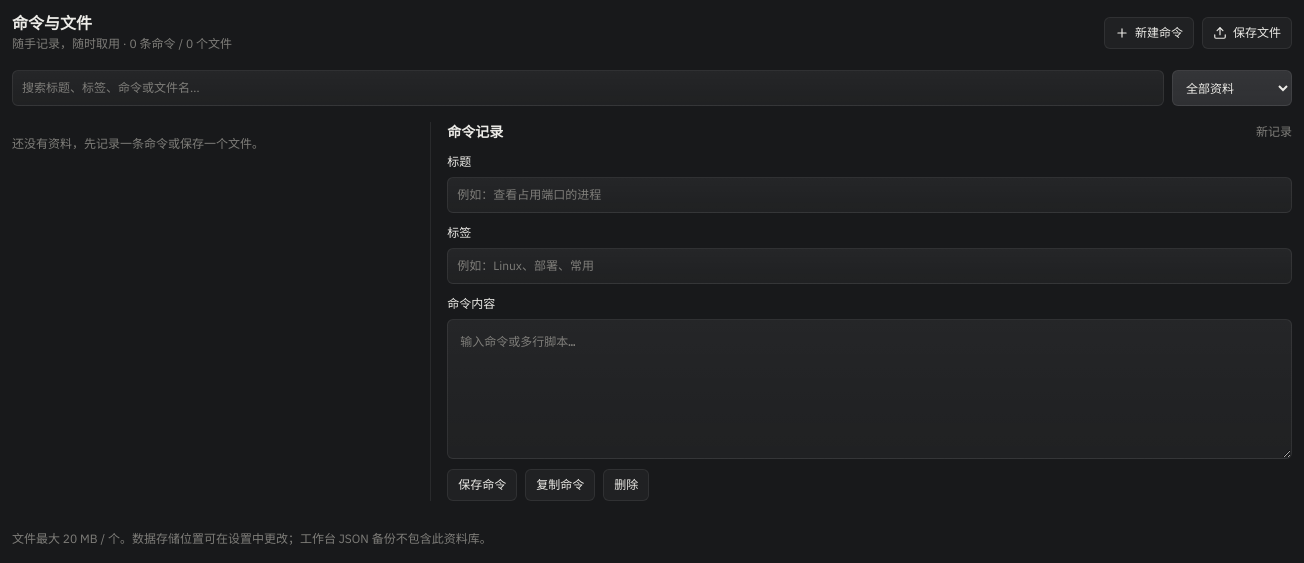
保存失败保留草稿并提示错误
expect the button "新建命令" is enabled: met, box [1104,17,1194,49]
Type "状态" into the field labelled "标题" at [870, 195], box [447,177,1292,213]
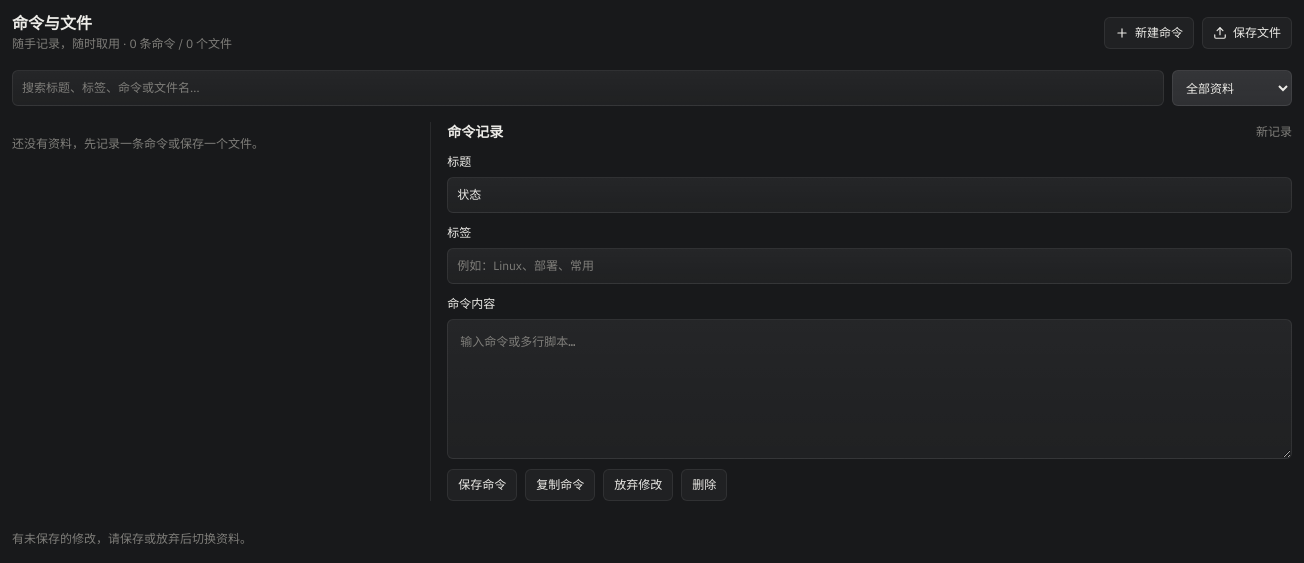
Type "git status" into the text box labelled "命令内容" at [870, 389], box [447,319,1292,459]
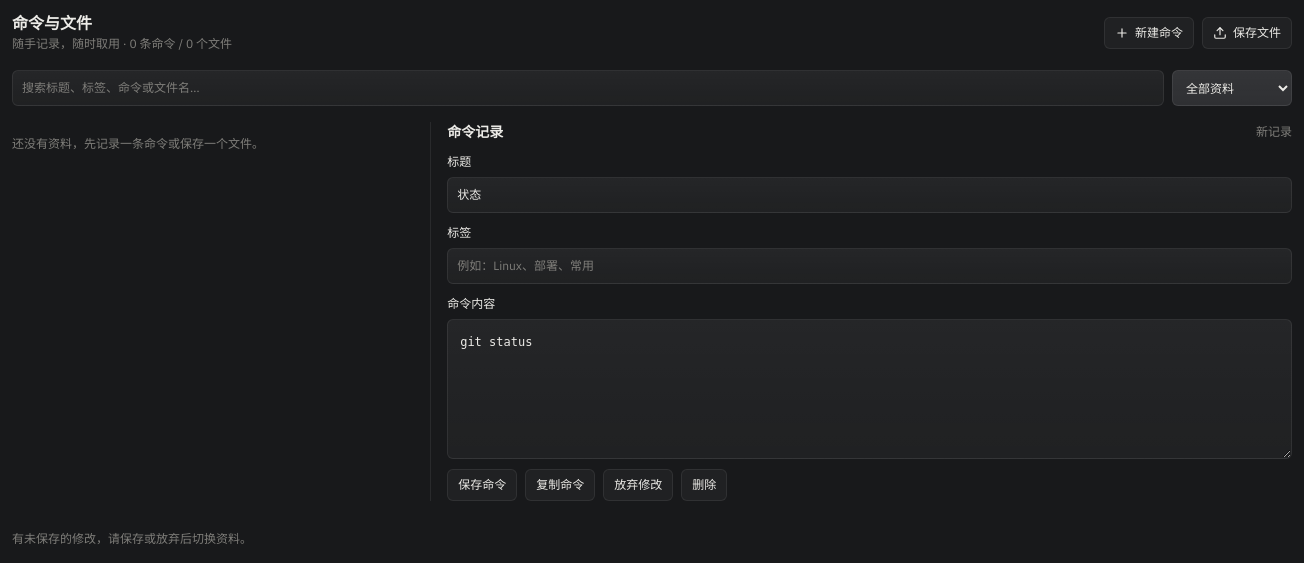
Click the button "保存命令" at [482, 485], box [447,469,517,501]
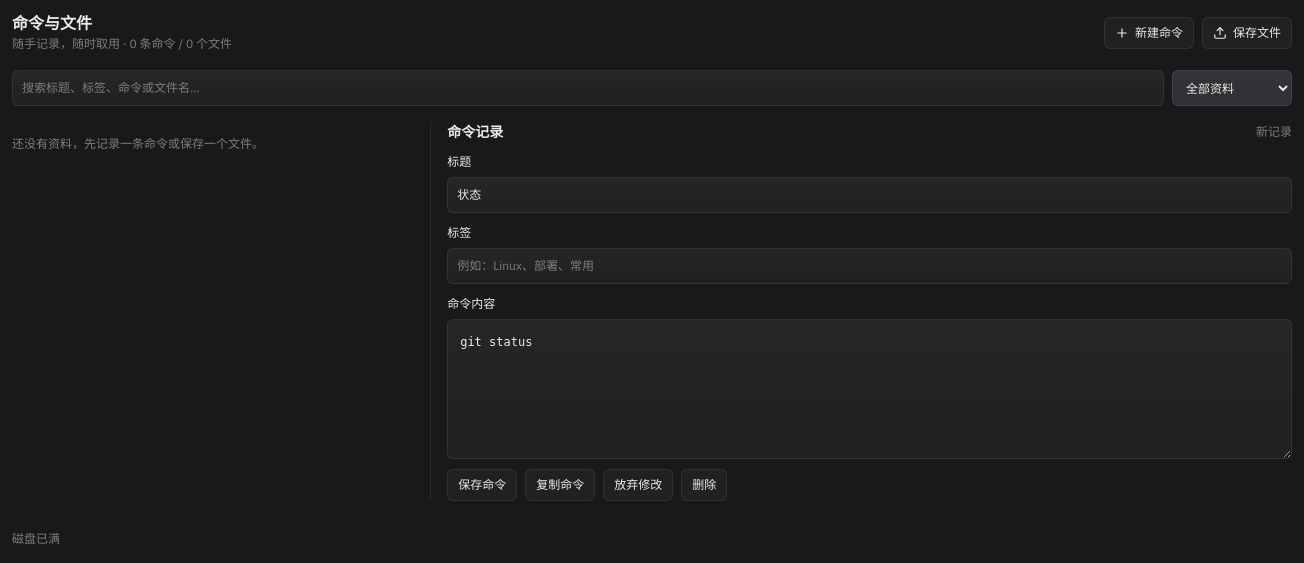
expect the button "新建命令" is disabled: met, box [1104,17,1194,49]
expect the text "磁盘已满" is shown: met, box [12,531,60,546]
